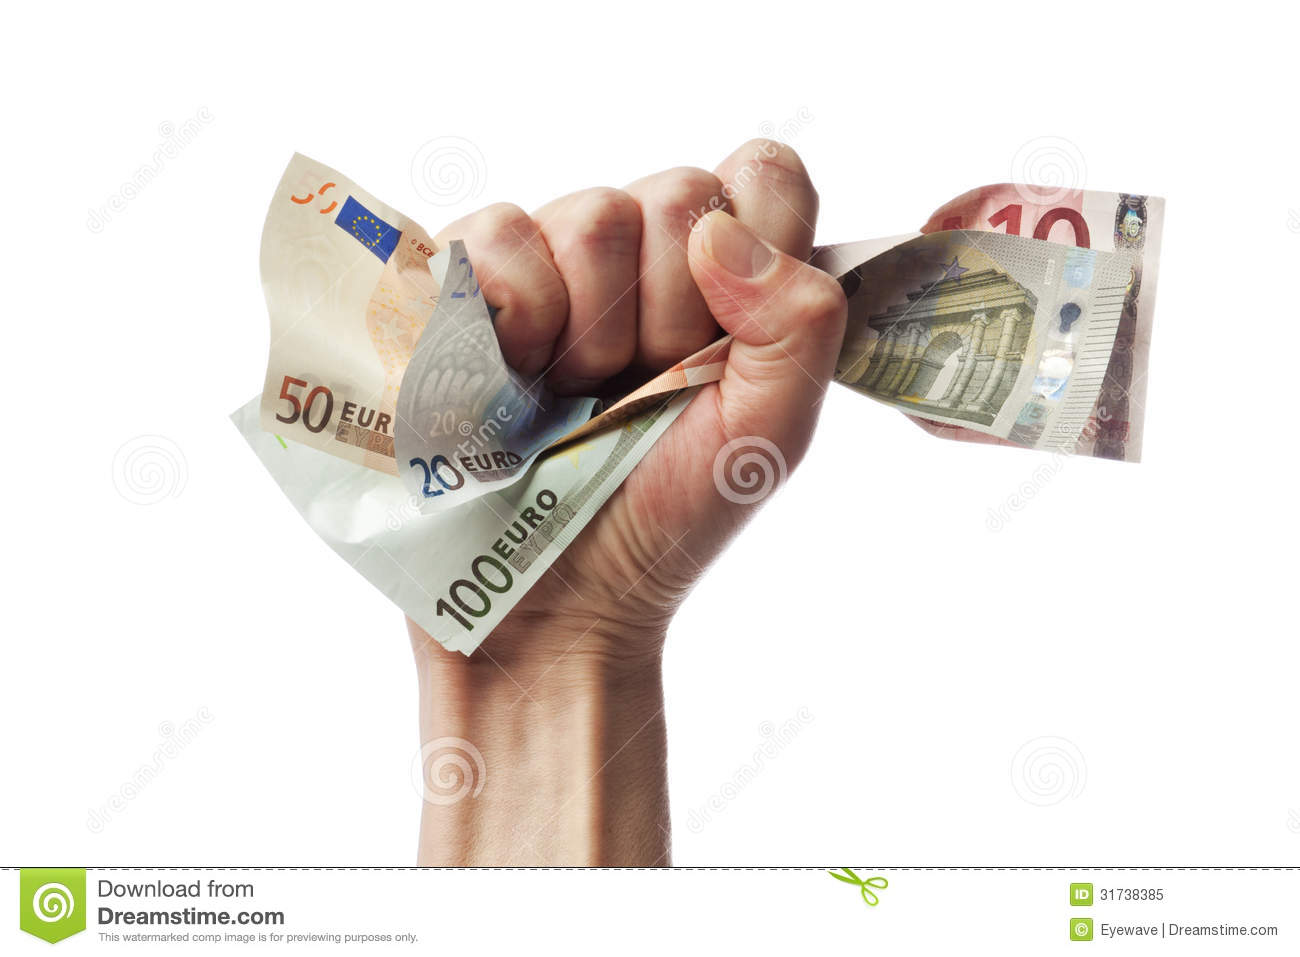billete: (229, 150, 737, 663), (809, 189, 1184, 474)
